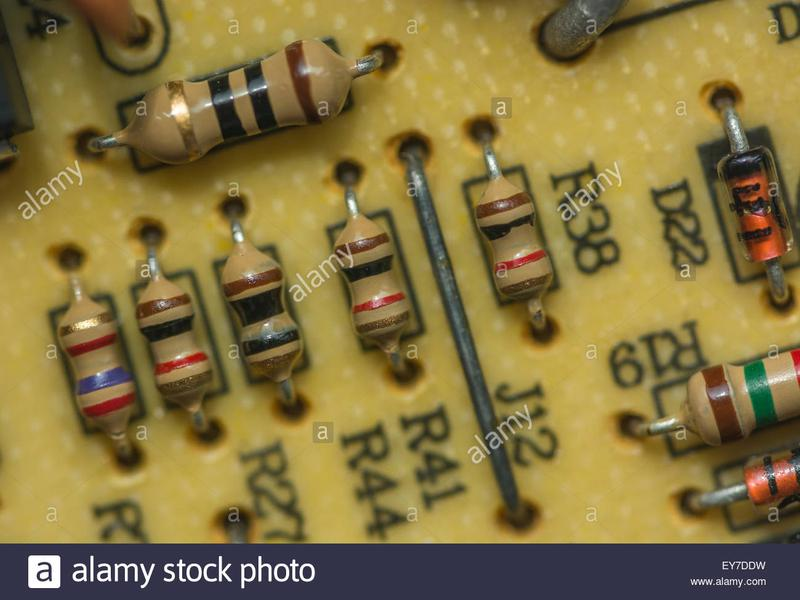resistor: (99, 23, 369, 183), (638, 335, 800, 469), (318, 189, 426, 378), (211, 219, 311, 414), (459, 154, 566, 318), (46, 288, 144, 459), (130, 264, 215, 432)
